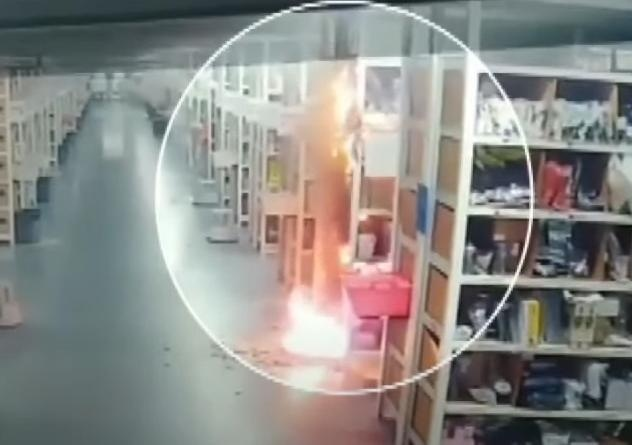fire: (267, 63, 367, 371)
